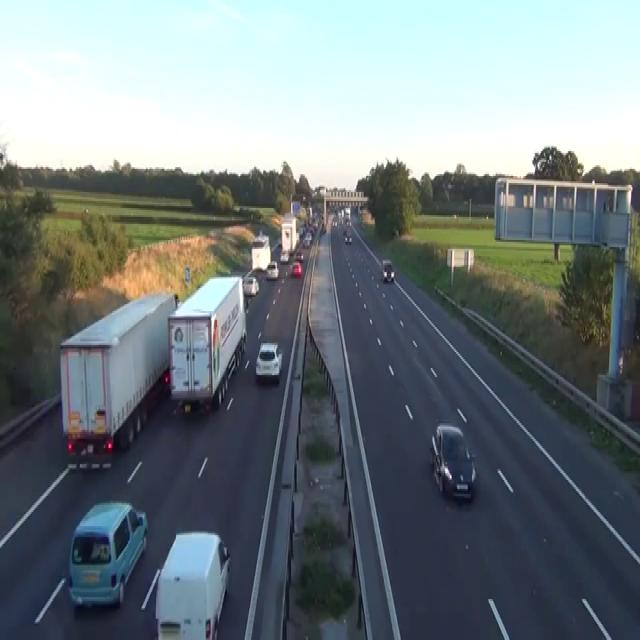Car: (67, 500, 148, 608), (431, 423, 476, 501), (255, 342, 282, 382), (242, 276, 259, 295), (381, 258, 394, 282), (266, 261, 279, 279), (290, 262, 302, 276), (280, 249, 289, 263), (243, 295, 249, 313), (344, 233, 352, 243), (295, 251, 303, 261), (302, 237, 310, 247), (344, 217, 351, 227), (320, 222, 326, 233), (305, 231, 312, 240), (331, 218, 338, 226), (299, 226, 304, 236), (343, 228, 347, 235)
Truck: (59, 290, 179, 471), (167, 274, 247, 414), (155, 530, 231, 638), (280, 213, 299, 254), (250, 233, 270, 270)
